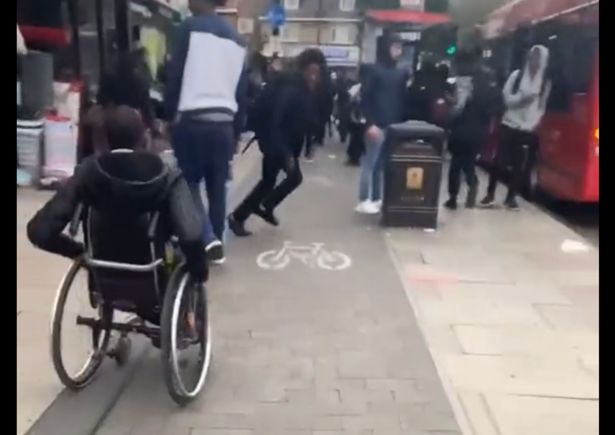wheelchair: (27, 105, 214, 406)
